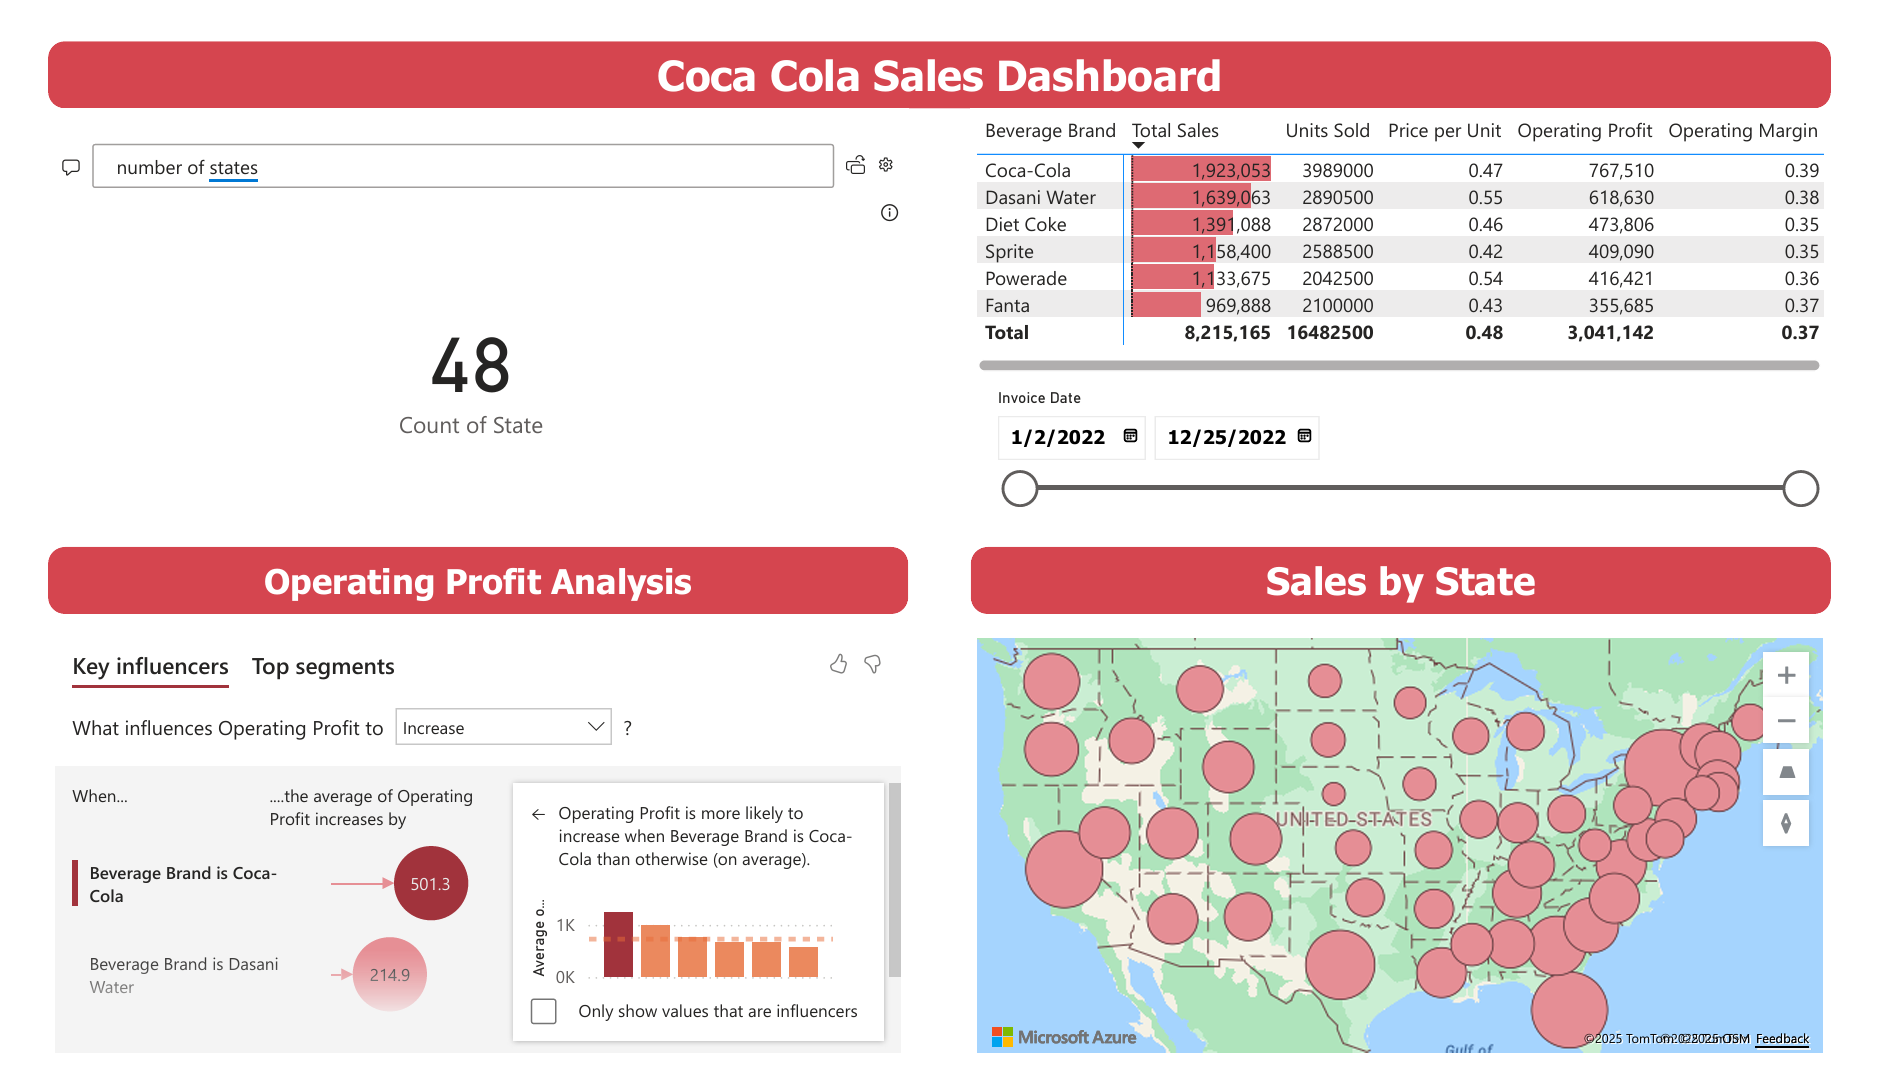

This screenshot's page, from the dashboard's own definition file:
{"tool":"powerbi","page":{"name":"Page 1","canvas":[1280,720],"ordinal":0},"visuals":[{"type":"shape","box":[13.7,5.2,1252.5,47.1],"z":0},{"type":"shape","box":[13.7,359.9,604.7,47.1],"z":1000},{"type":"shape","box":[661.6,359.9,604.7,47.1],"z":2000},{"type":"qnaVisual","box":[13.7,52.4,604.7,299.7],"z":3000},{"type":"keyDriversVisual","fields":{"Target":["Data.Operating Profit"],"ExplainBy":["Data.Beverage Brand"]},"box":[13.7,419.5,604.7,300.4],"z":4000},{"type":"azureMap","fields":{"Category":["Data.State"],"Size":["Sum(Data.Total Sales)"]},"box":[661.6,419.5,604.7,300.4],"z":5000},{"type":"pivotTable","fields":{"Rows":["Data.Beverage Brand"],"Values":["Sum(Data.Total Sales)","Sum(Data.Units Sold)","Avg(Data.Price per Unit)","Sum(Data.Operating Profit)","Avg(Data.Operating Margin)"]},"box":[661.6,52.4,604.7,189.8],"z":6000},{"type":"slicer","fields":{"Values":["Data.Invoice Date"]},"box":[668.1,244.1,598.1,108],"z":7000}]}

Visuals, with their boxes in screenshot pixels (x1, y1, x2, y2), scaled from the page's 1280x720 canvas onto the 1880x1087 screenshot:
shape: crop(20, 8, 1860, 79)
shape: crop(20, 543, 908, 614)
shape: crop(972, 543, 1860, 614)
qnaVisual: crop(20, 79, 908, 532)
keyDriversVisual - Data.Operating Profit x Data.Beverage Brand: crop(20, 633, 908, 1086)
azureMap - Data.State x Sum(Data.Total Sales): crop(972, 633, 1860, 1086)
pivotTable - Data.Beverage Brand x Sum(Data.Total Sales): crop(972, 79, 1860, 366)
slicer - Data.Invoice Date: crop(981, 369, 1860, 532)
